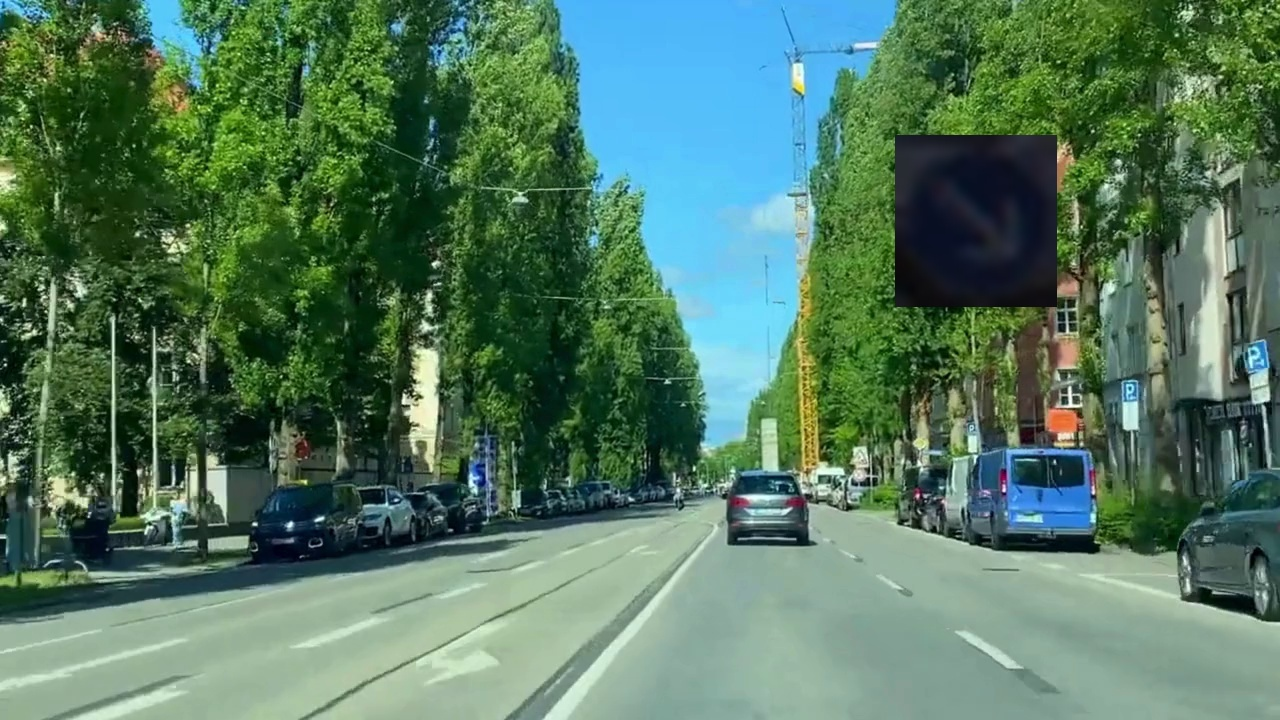Keep right: (895, 135, 1057, 307)
